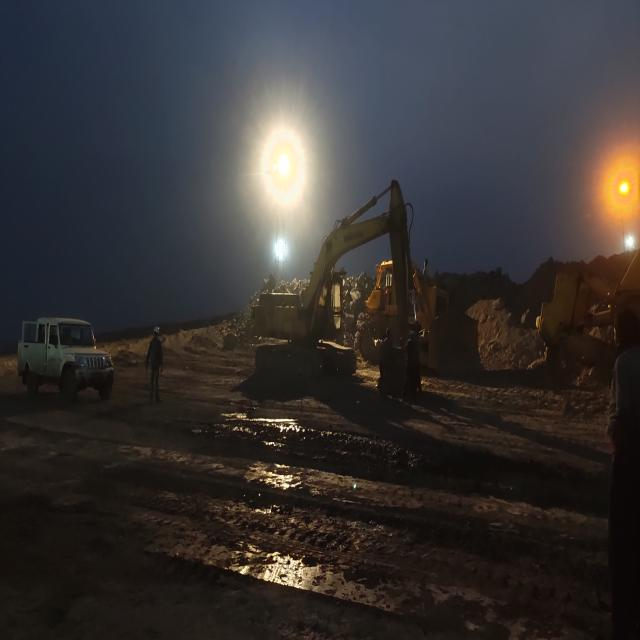excavator: (254, 180, 418, 393)
light_vehicle: (18, 318, 114, 400)
